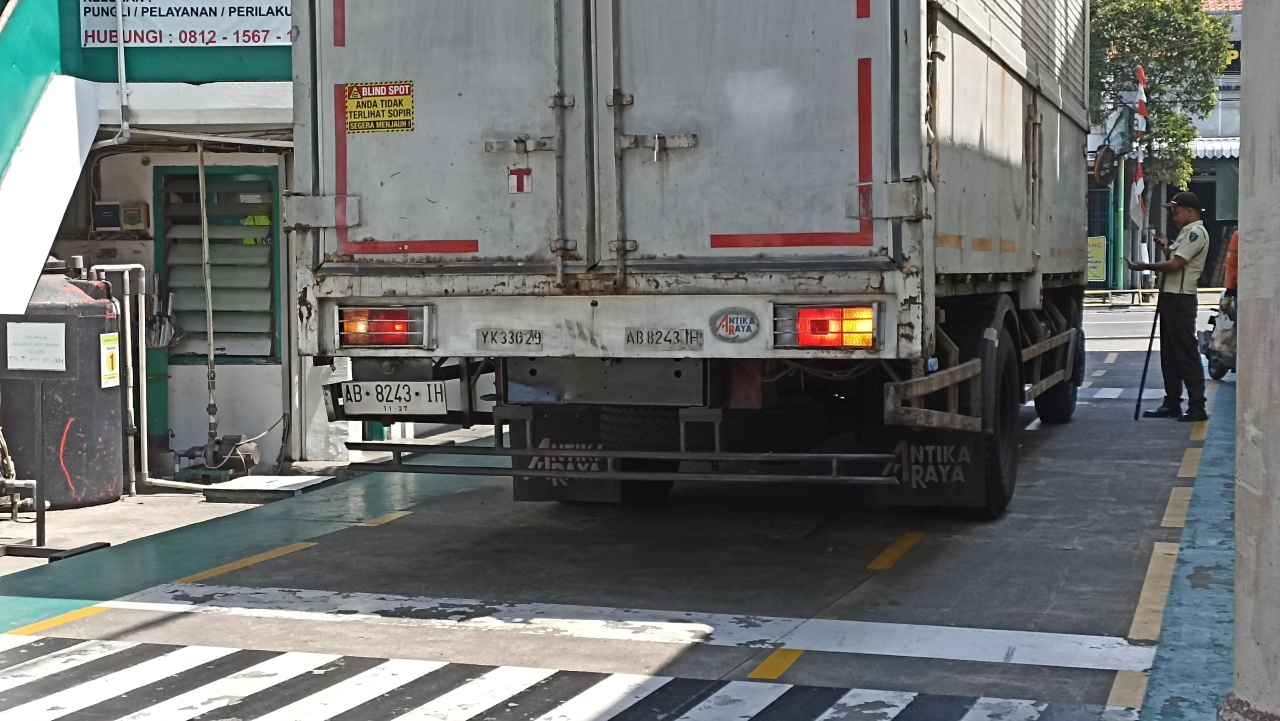plate: (341, 381, 447, 414)
